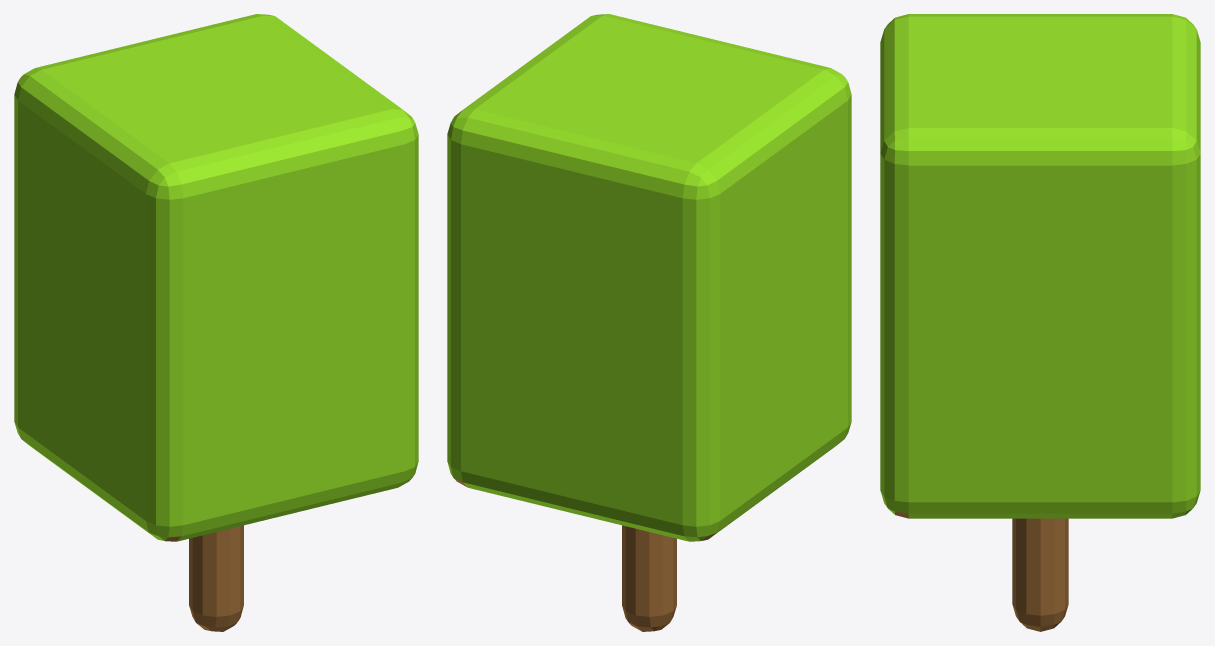
File: ShortTree.fbx
The picture shows the model from 3 angles, left to right: view 1: azimuth 30°, elevation 25°; view 2: azimuth 150°, elevation 25°; view 3: azimuth 270°, elevation 25°; orthographic projection. The views are drawn at different scales.
Visible parts, largest first — view 1: Cube.104; view 2: Cube.104; view 3: Cube.104.
Part boxes in pixels (box(x1,y1,x2,y2)): Cube.104: box(14, 14, 418, 631); Cube.104: box(447, 14, 851, 631); Cube.104: box(880, 14, 1200, 631).
Size of the model in its own units: 0.5166 by 0.9919 by 0.5166.
